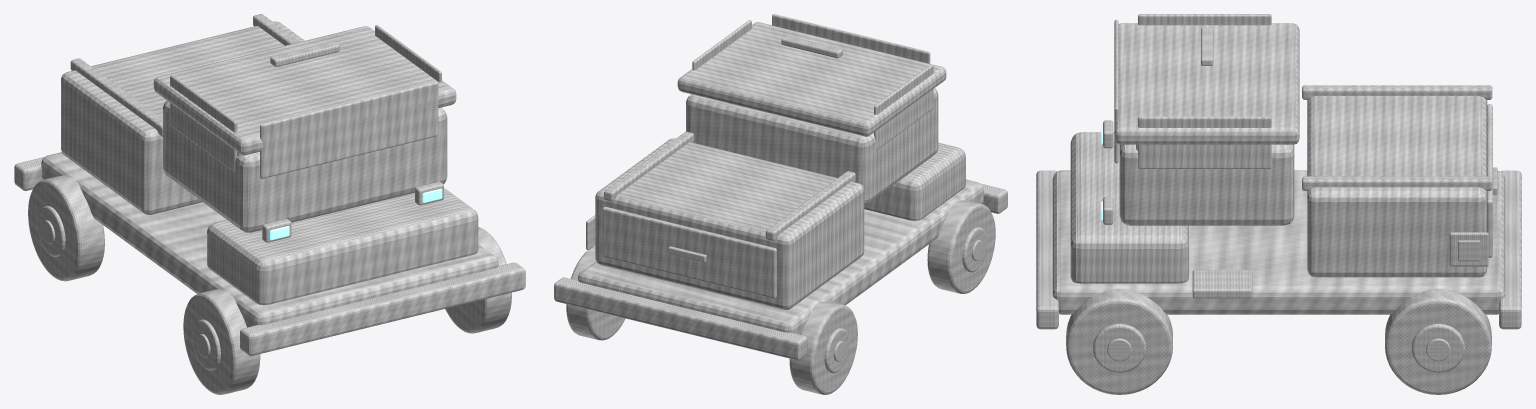
The model's file is tractor_variant_d.glb.
3 renders of one model, left to right at view 1: azimuth 30°, elevation 25°; view 2: azimuth 150°, elevation 25°; view 3: azimuth 270°, elevation 25°, orthographic. The views are drawn at different scales.
Parts seen in each view (by area): view 1: Lower engine cover.003, Upper cabin armor, Rear cargo body.003, Modular cabin shell, Ladder chassis.003, Wide windshield, Front bumper.003, All-terrain tire.014, All-terrain tire.013, Side window, All-terrain tire.015, Cargo side rail.007 (+6 smaller); view 2: Rear cargo body.003, Upper cabin armor, Modular cabin shell, Ladder chassis.003, Rear cargo hatch.003, Rear bumper.003, Lower engine cover.003, All-terrain tire.013, All-terrain tire.014, Wide windshield, Side window, All-terrain tire (+7 smaller); view 3: Rear cargo body.003, Ladder chassis.003, Upper cabin armor, Modular cabin shell, Lower engine cover.003, All-terrain tire.015, All-terrain tire, Side window.001, Front bumper.003, Rear bumper.003, Cargo side rail, Cargo side rail.007 (+11 smaller).
Part boxes in pixels (box(x1,y1,x2,y2)): Lower engine cover.003: box(207, 188, 478, 305); Upper cabin armor: box(153, 26, 456, 155); Rear cargo body.003: box(61, 21, 304, 214); Modular cabin shell: box(163, 100, 447, 232); Ladder chassis.003: box(41, 152, 498, 327); Wide windshield: box(260, 81, 438, 178); Front bumper.003: box(240, 262, 525, 355); All-terrain tire.014: box(28, 175, 104, 281); All-terrain tire.013: box(183, 289, 260, 394); Side window: box(170, 75, 237, 172); All-terrain tire.015: box(445, 227, 511, 333); Cargo side rail.007: box(70, 58, 162, 136); Rear cargo body.003: box(595, 138, 864, 309); Upper cabin armor: box(677, 22, 946, 136); Modular cabin shell: box(686, 88, 938, 204); Ladder chassis.003: box(578, 179, 983, 334); Rear cargo hatch.003: box(602, 206, 776, 298); Rear bumper.003: box(554, 277, 807, 360); Lower engine cover.003: box(864, 142, 965, 220); All-terrain tire.013: box(927, 200, 995, 293); All-terrain tire.014: box(789, 301, 857, 394); Wide windshield: box(772, 14, 930, 63); Side window: box(874, 64, 933, 150); All-terrain tire: box(566, 246, 625, 340); Rear cargo body.003: box(1307, 96, 1487, 277); Ladder chassis.003: box(1052, 170, 1505, 314); Upper cabin armor: box(1114, 23, 1299, 144); Modular cabin shell: box(1119, 144, 1294, 225); Lower engine cover.003: box(1070, 132, 1188, 283); All-terrain tire.015: box(1066, 288, 1172, 394); All-terrain tire: box(1385, 288, 1491, 394); Side window.001: box(1138, 116, 1271, 168); Front bumper.003: box(1036, 170, 1058, 329); Rear bumper.003: box(1499, 170, 1521, 329); Cargo side rail: box(1302, 176, 1492, 190); Cargo side rail.007: box(1302, 85, 1492, 99).
Size of what is drawn, in the model's own units: 3.35 by 3.04 by 4.72.
Materials: 7 (7 with a texture image).
